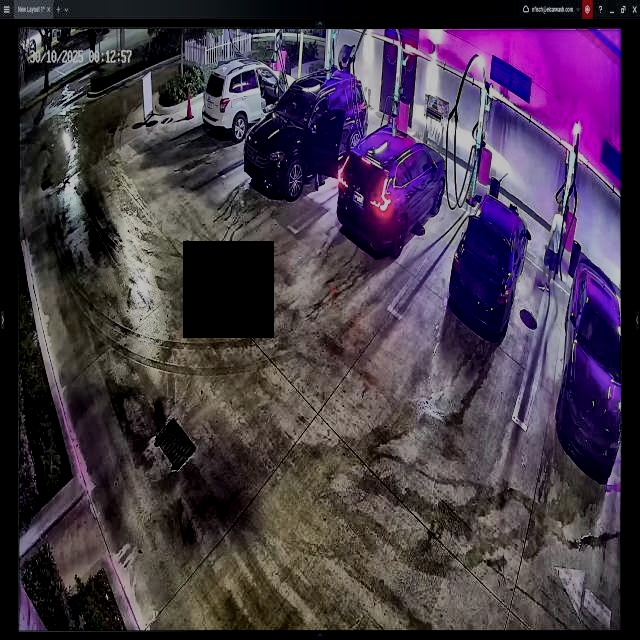Car: (247, 71, 366, 197), (339, 123, 445, 254), (452, 191, 527, 337)
